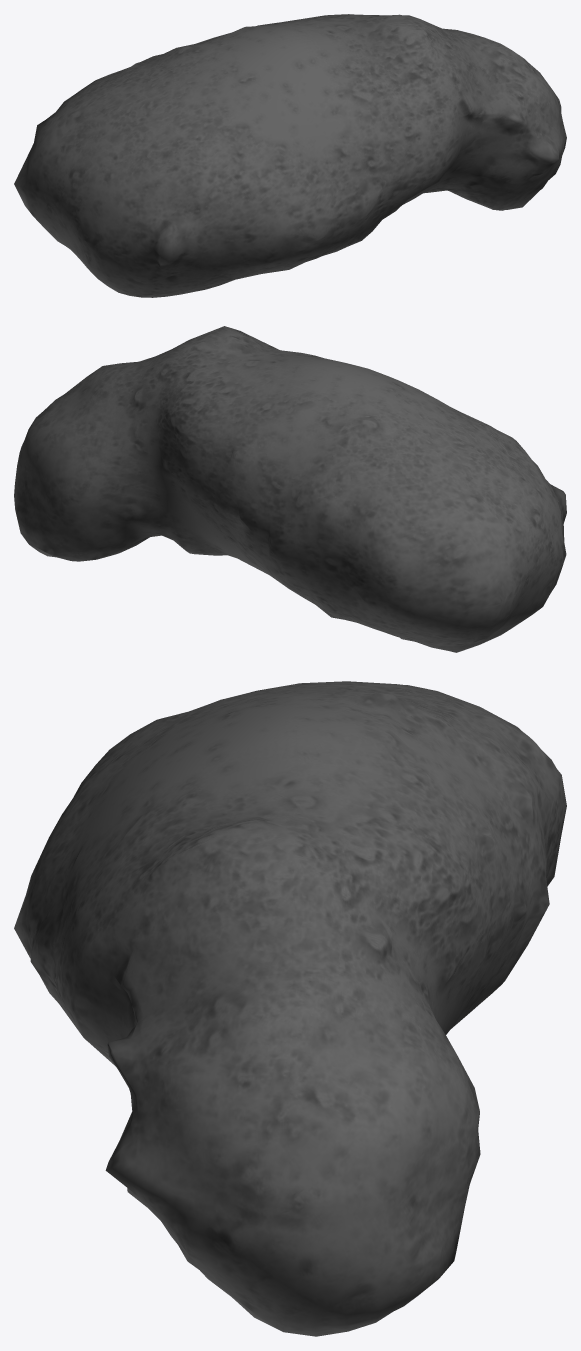
File: Itokawa_1_1.gltf
3 views of the same model, one above another, from view 1: azimuth 30°, elevation 25°; view 2: azimuth 150°, elevation 25°; view 3: azimuth 270°, elevation 25° (orthographic). The views are drawn at different scales.
Parts seen in each view (by area): view 1: itokawa_LP; view 2: itokawa_LP; view 3: itokawa_LP.
Boxes of the visible parts, x1,y1,x2,y2 form: itokawa_LP: (14, 14, 566, 297); itokawa_LP: (14, 326, 566, 652); itokawa_LP: (14, 681, 566, 1336).
Bounding box in the file's own units: 535 × 232 × 290.
1 material, 1 textured.
